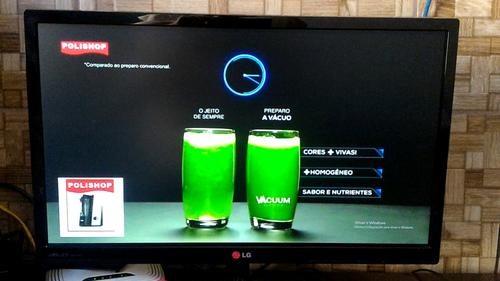Polishop #1: (56, 177, 124, 237)
